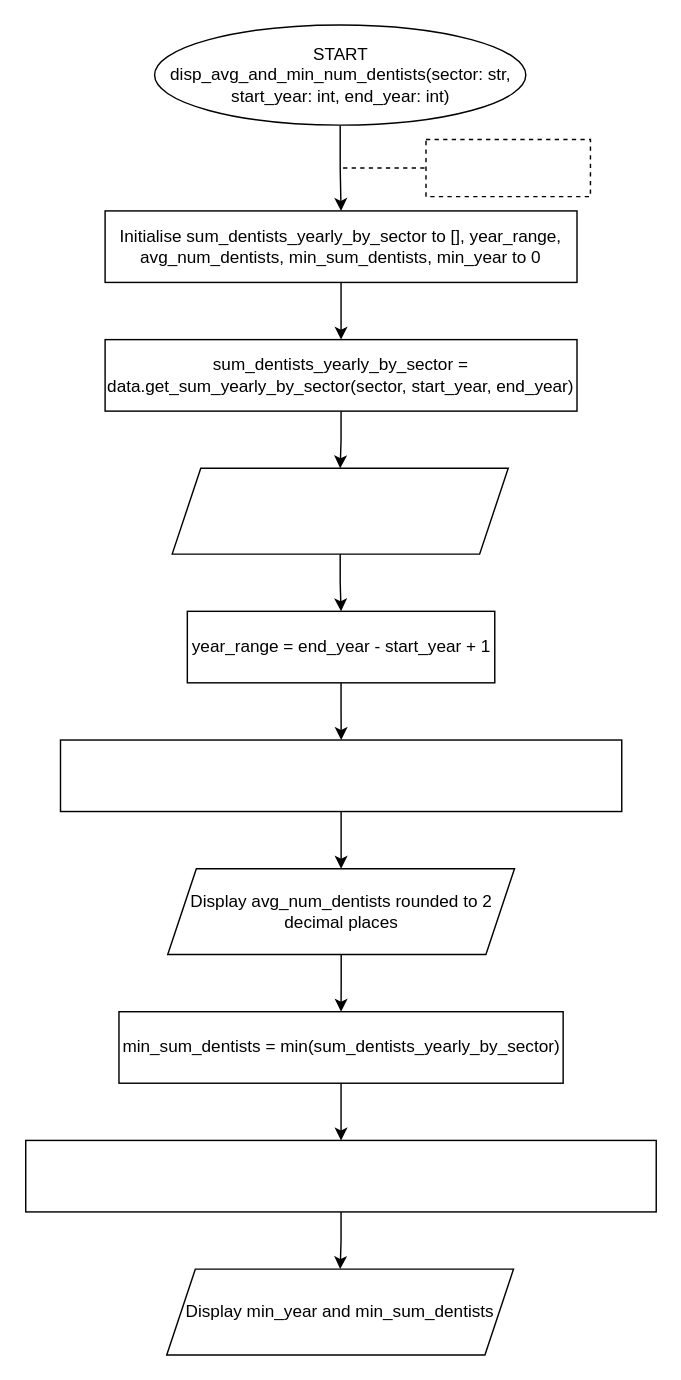
The diagram is 681 pixels wide and 1380 high, and some of its shapes have lost their labels. The shapes that lost their labels are listed below. From the top down, each one's centre as x and y in pixels, then its label:
pixel 507 167: import data
pixel 339 510: Display f"For {sector} sector from {start_year} to {end_year}: \n"
pixel 340 775: avg_num_dentists = sum(sum_dentists_yearly_by_sector) / year_range
pixel 340 1175: min_year = start_year + sum_dentists_yearly_by_sector.index(min_sum_dentists)
